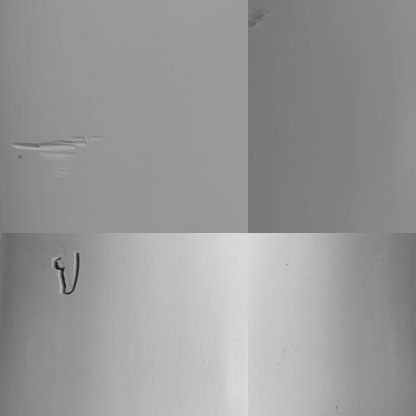fengxi: (50, 249, 88, 304)
sunshang: (4, 131, 97, 182)
